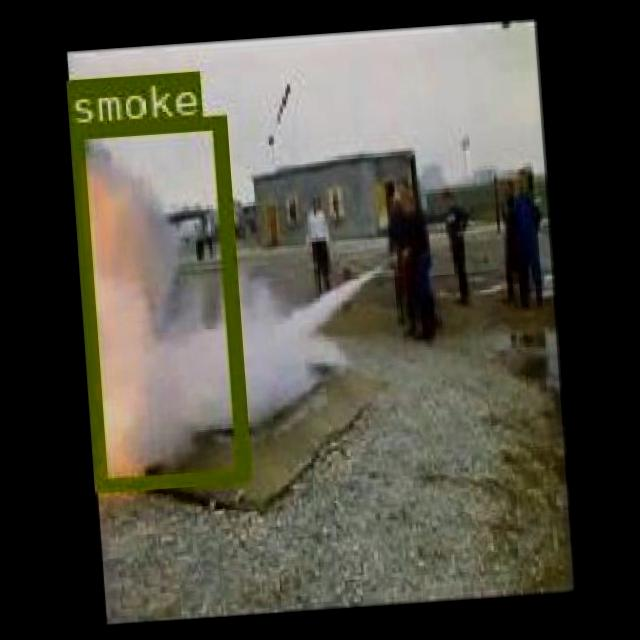smoke: (66, 114, 248, 492)
